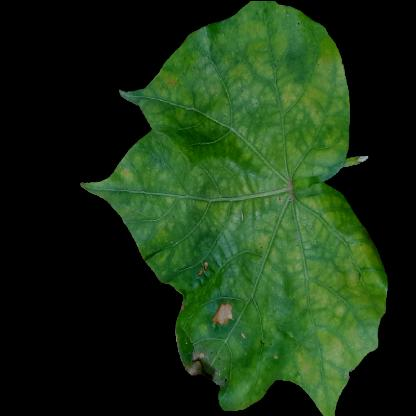curl_stage1: (247, 17, 335, 181), (138, 150, 240, 250), (299, 189, 346, 393), (245, 201, 299, 333), (179, 57, 239, 145), (344, 238, 384, 325), (291, 332, 352, 384)
